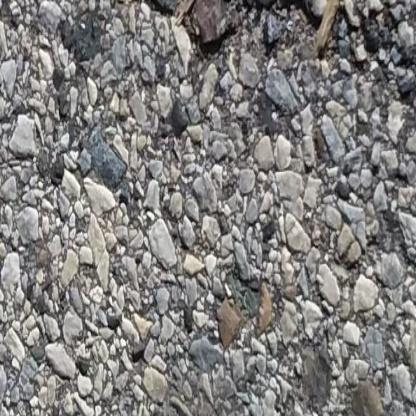Cracks: (137, 0, 416, 136)
